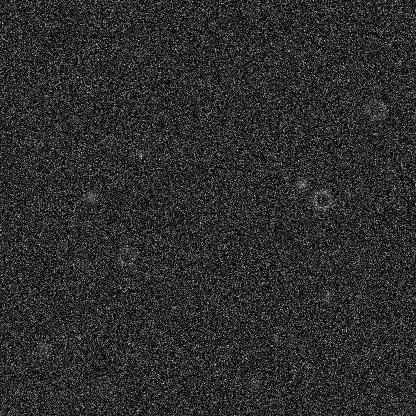Ring: (349, 184, 373, 208), (271, 323, 295, 347), (309, 187, 333, 211), (92, 375, 116, 399), (363, 97, 387, 121), (114, 244, 138, 268), (232, 184, 256, 208)
Spot: (245, 374, 261, 390), (35, 339, 51, 355), (319, 287, 335, 303), (21, 130, 37, 146), (131, 145, 147, 161), (82, 189, 98, 205), (125, 349, 141, 365), (293, 176, 309, 192)
